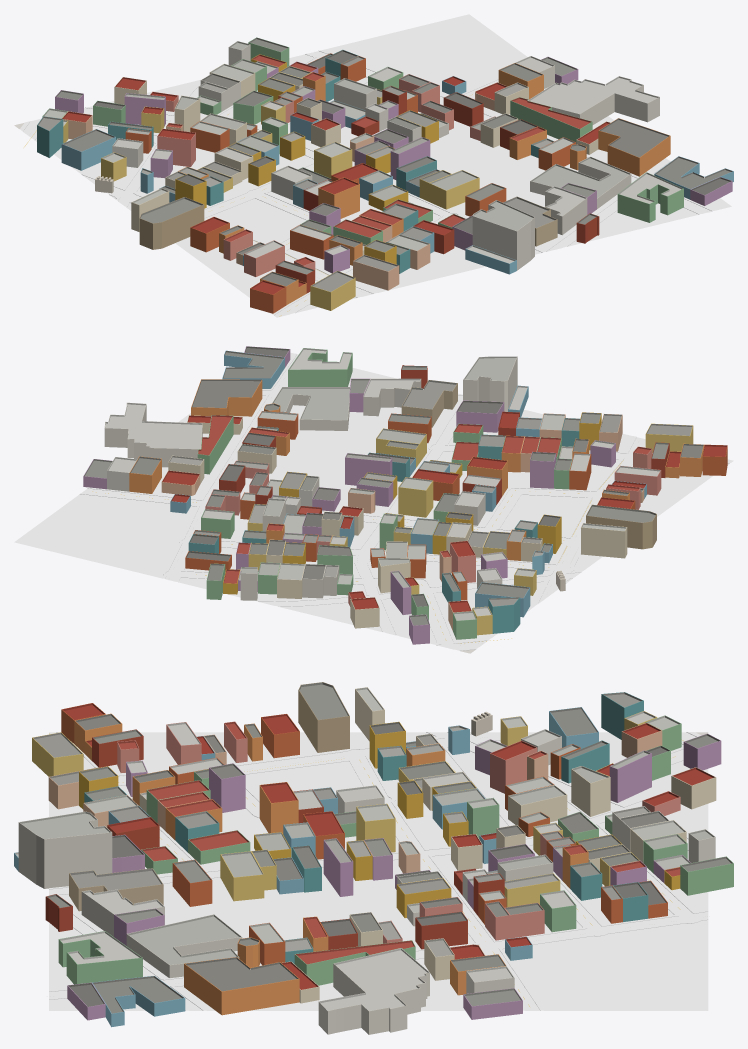
3 renders of one model, top to bottom at view 1: azimuth 30°, elevation 25°; view 2: azimuth 150°, elevation 25°; view 3: azimuth 270°, elevation 25°, orthographic. The views are drawn at different scales.
Parts seen in each view (by area): view 1: walls, roofs, plaza, asphalt, sidewalk; view 2: walls, roofs, plaza, asphalt, sidewalk; view 3: walls, roofs, plaza, asphalt, sidewalk.
Part boxes in pixels (left/top/right/bottom): walls: left=37, top=42, right=733, bottom=313; roofs: left=37, top=37, right=733, bottom=294; plaza: left=35, top=14, right=731, bottom=314; asphalt: left=23, top=51, right=711, bottom=317; sidewalk: left=20, top=50, right=713, bottom=315; walls: left=83, top=349, right=727, bottom=644; roofs: left=83, top=346, right=727, bottom=625; plaza: left=14, top=352, right=728, bottom=643; asphalt: left=82, top=354, right=733, bottom=649; sidewalk: left=80, top=353, right=730, bottom=650; walls: left=14, top=689, right=733, bottom=1034; roofs: left=14, top=682, right=733, bottom=1013; plaza: left=49, top=732, right=708, bottom=1010; asphalt: left=49, top=732, right=708, bottom=1010; sidewalk: left=49, top=732, right=708, bottom=1010.
Size of what is drawn, in the model's own units: 287 by 20.75 by 273.
